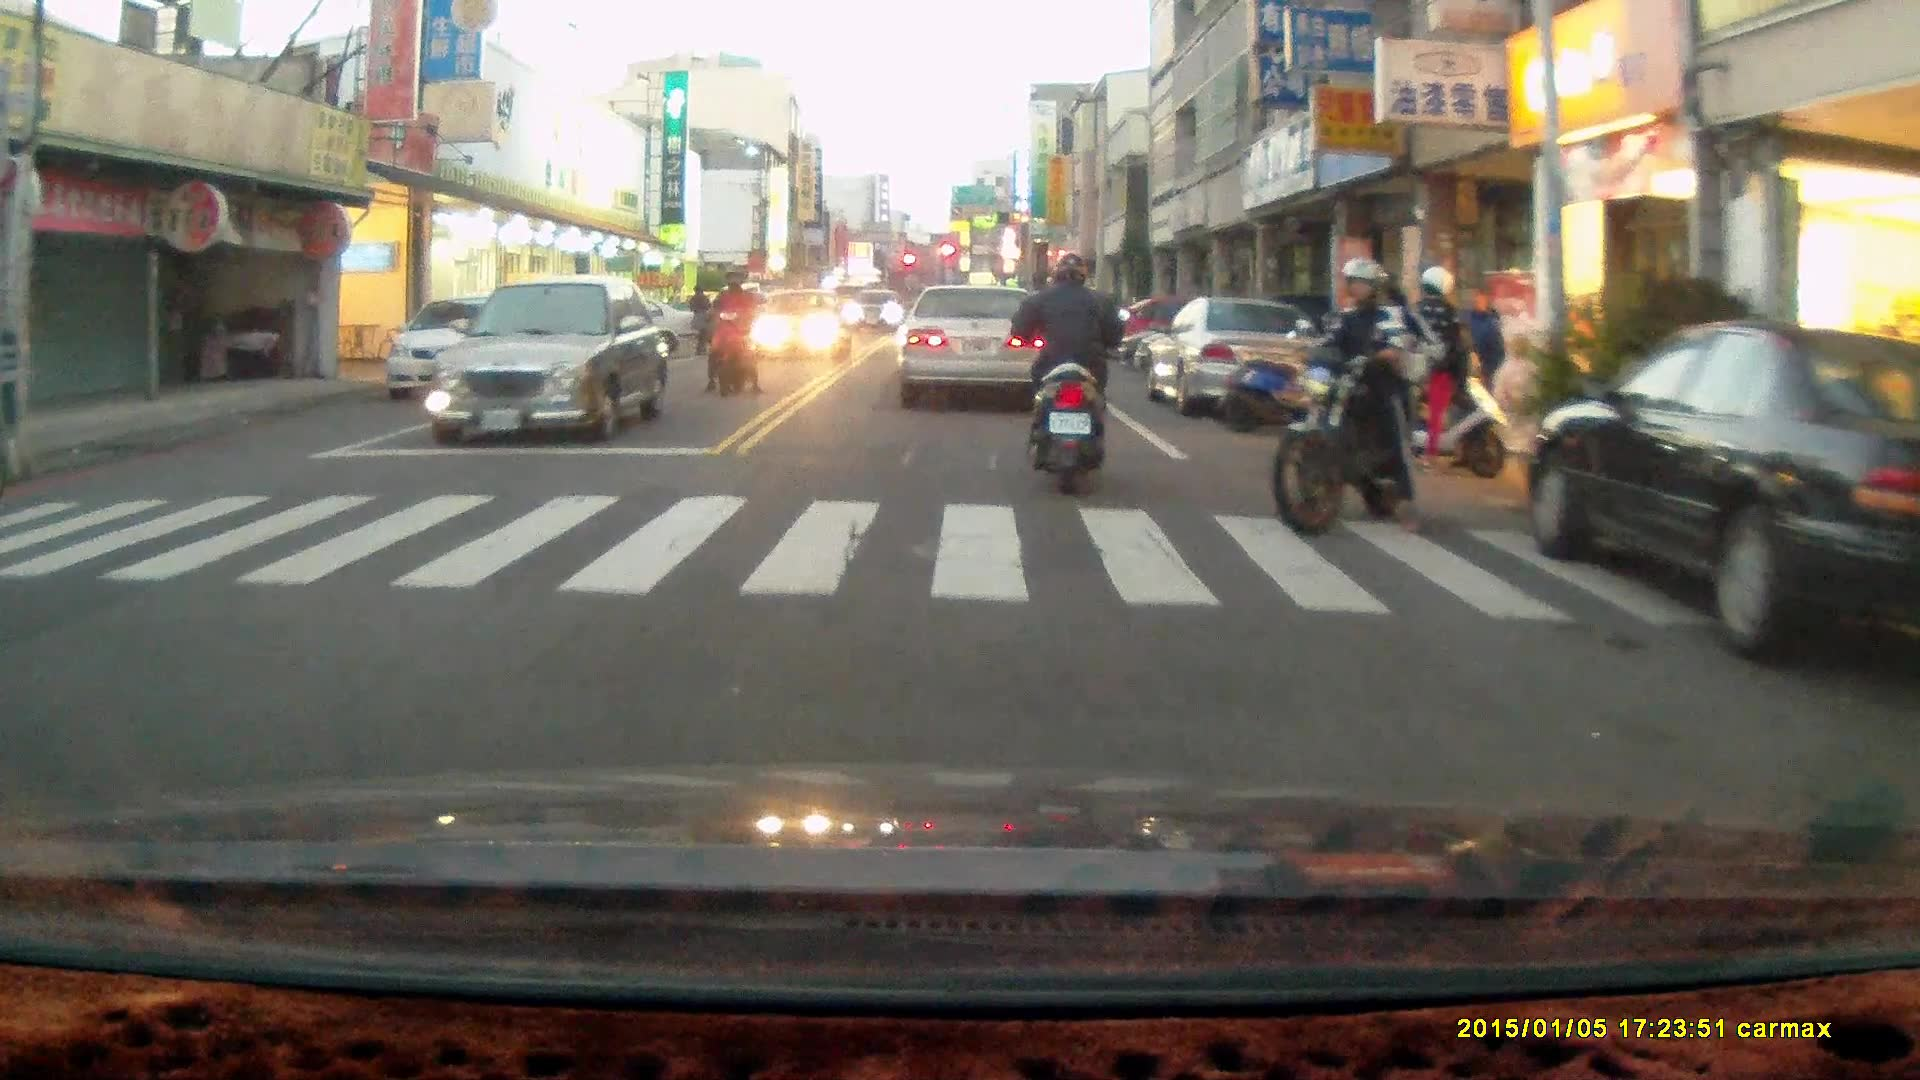pedestrian: (1404, 267, 1465, 468), (1454, 282, 1504, 448), (686, 284, 713, 358)
rider: (1272, 254, 1499, 536), (1010, 251, 1127, 496), (702, 260, 763, 398)
vehicle: (1529, 320, 1920, 666), (433, 276, 672, 448), (1144, 301, 1325, 420), (896, 286, 1051, 413), (386, 290, 547, 409), (745, 287, 848, 366)
